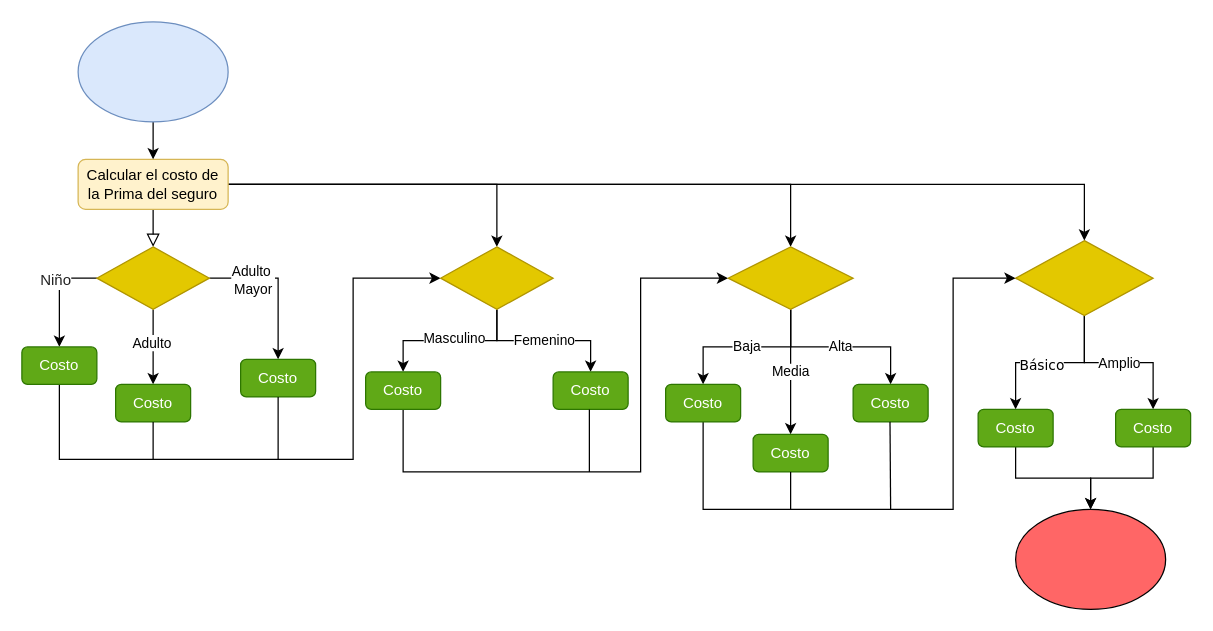
Some shapes in this 1213 by 631 pixel diagram are drawn without their labels. Each missing label, with the box of its shape:
Costo de la Prima: (1014, 508, 1166, 609)
Edad: (96, 246, 209, 309)
Gama Hospitalaria: (727, 246, 853, 309)
Inicio- Seguro de Gastos Medicos: (77, 21, 228, 122)
Nivel de protección: (1014, 239, 1153, 316)
Sexo: (439, 246, 553, 309)
